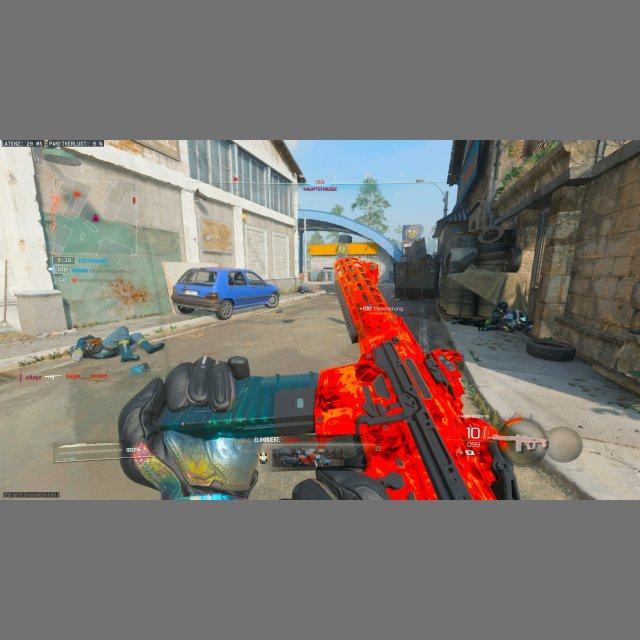head: (497, 302, 508, 313)
